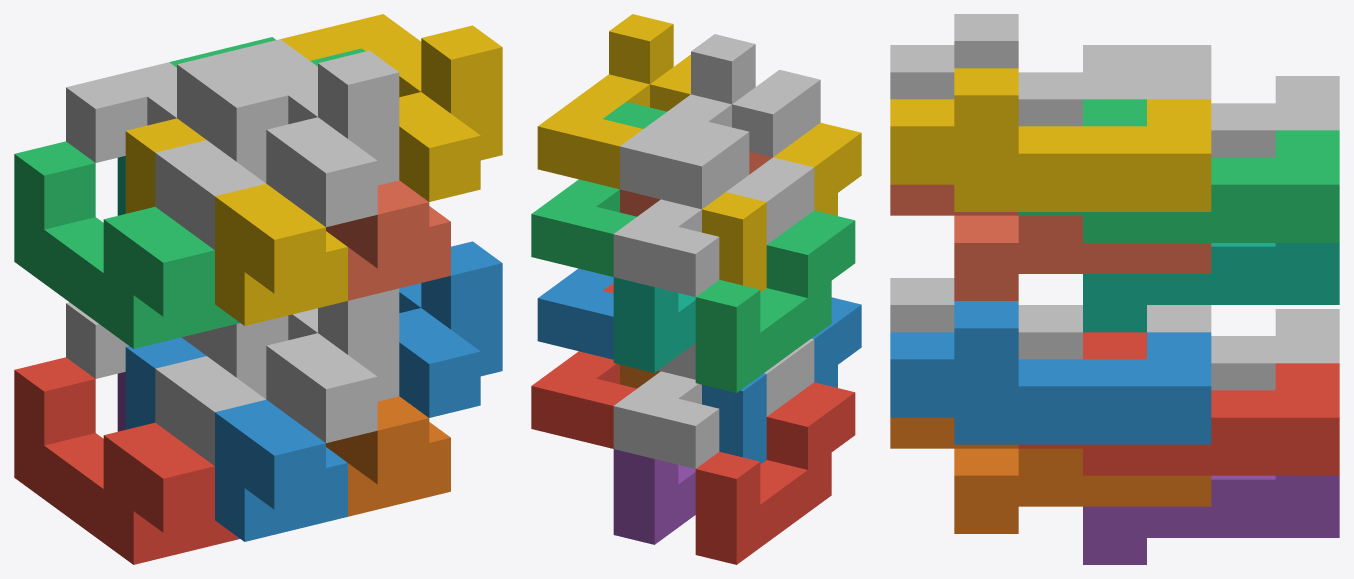
File: tiling.obj
3 renders of one model, left to right at view 1: azimuth 30°, elevation 25°; view 2: azimuth 150°, elevation 25°; view 3: azimuth 270°, elevation 25°, orthographic. The views are drawn at different scales.
Parts seen in each view (by area): view 1: copy_1_domain_1, copy_1_domain_3, copy_2_domain_4, copy_2_domain_3, copy_2_domain_8, copy_1_domain_4, copy_1_domain_2, copy_2_domain_2, copy_2_domain_6, copy_2_domain_1, copy_1_domain_8, copy_1_domain_6 (+1 smaller); view 2: copy_2_domain_4, copy_1_domain_1, copy_1_domain_3, copy_2_domain_3, copy_2_domain_8, copy_2_domain_1, copy_1_domain_4, copy_2_domain_7, copy_2_domain_5, copy_1_domain_2, copy_1_domain_7, copy_1_domain_5 (+4 smaller); view 3: copy_2_domain_6, copy_2_domain_8, copy_2_domain_5, copy_2_domain_7, copy_2_domain_4, copy_1_domain_6, copy_1_domain_8, copy_1_domain_5, copy_1_domain_7, copy_2_domain_2, copy_2_domain_3, copy_2_domain_1.
Boxes of the visible parts, left/top/right/bottom form: copy_1_domain_1: left=14, top=357, right=236, bottom=564; copy_1_domain_3: left=14, top=141, right=236, bottom=348; copy_2_domain_4: left=177, top=39, right=399, bottom=227; copy_2_domain_3: left=66, top=62, right=288, bottom=249; copy_2_domain_8: left=280, top=14, right=502, bottom=201; copy_1_domain_4: left=125, top=118, right=347, bottom=325; copy_1_domain_2: left=125, top=337, right=347, bottom=541; copy_2_domain_2: left=182, top=288, right=399, bottom=442; copy_2_domain_6: left=399, top=241, right=502, bottom=417; copy_2_domain_1: left=66, top=302, right=288, bottom=465; copy_1_domain_8: left=326, top=180, right=450, bottom=300; copy_1_domain_6: left=326, top=396, right=450, bottom=516; copy_2_domain_4: left=620, top=34, right=820, bottom=209; copy_1_domain_1: left=695, top=382, right=855, bottom=564; copy_1_domain_3: left=695, top=210, right=855, bottom=392; copy_2_domain_3: left=613, top=122, right=814, bottom=296; copy_2_domain_8: left=537, top=14, right=690, bottom=189; copy_2_domain_1: left=613, top=338, right=814, bottom=468; copy_1_domain_4: left=702, top=122, right=861, bottom=292; copy_2_domain_7: left=531, top=101, right=666, bottom=276; copy_2_domain_5: left=531, top=283, right=636, bottom=448; copy_1_domain_2: left=702, top=297, right=861, bottom=464; copy_1_domain_7: left=613, top=277, right=695, bottom=372; copy_1_domain_5: left=613, top=449, right=695, bottom=544; copy_2_domain_6: left=890, top=301, right=1211, bottom=444; copy_2_domain_8: left=890, top=68, right=1211, bottom=211; copy_2_domain_5: left=1018, top=332, right=1339, bottom=475; copy_2_domain_7: left=1018, top=99, right=1339, bottom=242; copy_2_domain_4: left=890, top=14, right=1211, bottom=126; copy_1_domain_6: left=890, top=417, right=1211, bottom=533; copy_1_domain_8: left=890, top=184, right=1211, bottom=300; copy_1_domain_5: left=1083, top=475, right=1339, bottom=564; copy_1_domain_7: left=1083, top=243, right=1339, bottom=332; copy_2_domain_2: left=890, top=278, right=1211, bottom=359; copy_2_domain_3: left=1083, top=45, right=1339, bottom=157; copy_2_domain_1: left=1211, top=309, right=1339, bottom=390.
Bounding box in the file's own units: 6 × 9 × 7.
